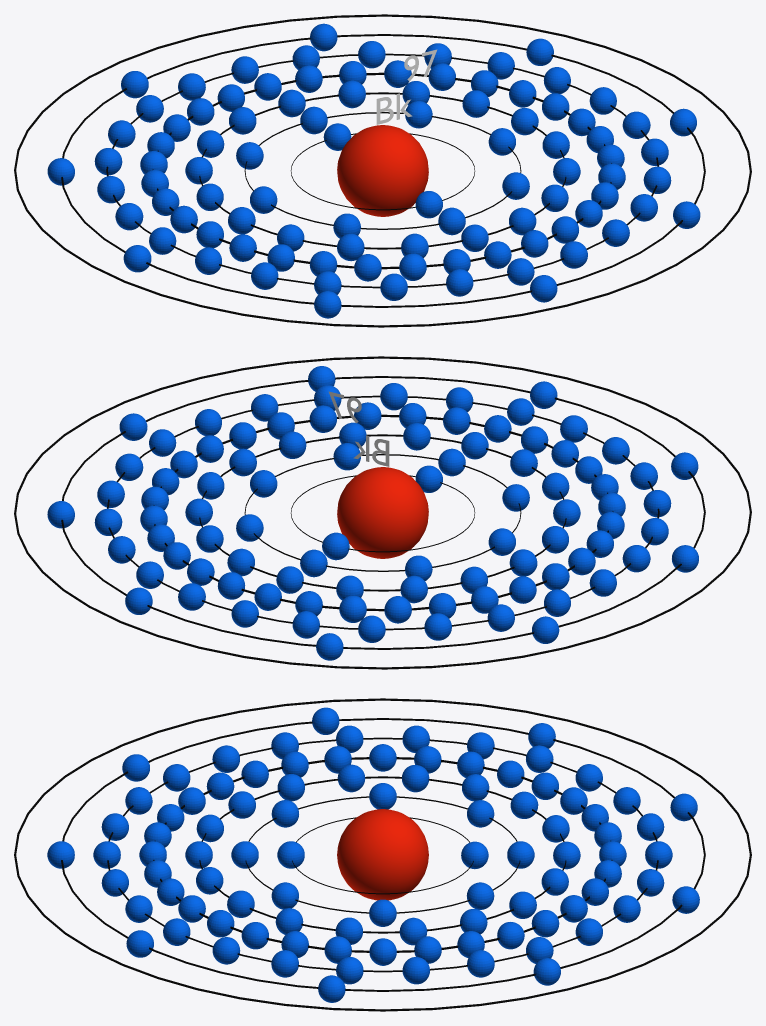
3 views of the same model, one above another, from view 1: azimuth 30°, elevation 25°; view 2: azimuth 150°, elevation 25°; view 3: azimuth 270°, elevation 25° (orthographic).
Parts seen in each view (by area): view 1: Bk4, Bk5, Bk3, Proton, Bk6, Bk2, n7, n6, n5, Bk1, n3, n4 (+1 smaller); view 2: Bk4, Bk5, Bk3, Proton, Bk6, Bk2, n7, n6, n5, Bk1, n3, n4 (+1 smaller); view 3: Bk4, Bk5, Bk3, Proton, Bk6, Bk2, n7, n6, n5, Bk1, n3, n4 (+2 smaller).
Boxes of the visible parts, <box> form: Bk4: <box>140,60,625,281</box>; Bk5: <box>94,41,671,300</box>; Bk3: <box>185,80,580,261</box>; Proton: <box>337,125,428,216</box>; Bk6: <box>47,23,700,318</box>; Bk2: <box>236,101,529,238</box>; n7: <box>14,14,751,327</box>; n6: <box>61,34,705,307</box>; n5: <box>106,53,658,288</box>; Bk1: <box>323,123,442,218</box>; n3: <box>199,92,566,249</box>; n4: <box>152,72,611,269</box>; Bk4: <box>140,402,625,623</box>; Bk5: <box>94,383,671,642</box>; Bk3: <box>185,422,580,603</box>; Proton: <box>337,467,428,558</box>; Bk6: <box>47,366,698,660</box>; Bk2: <box>236,443,529,580</box>; n7: <box>14,356,751,669</box>; n6: <box>61,376,705,649</box>; n5: <box>107,395,659,630</box>; Bk1: <box>322,465,442,560</box>; n3: <box>199,434,566,591</box>; n4: <box>153,414,613,611</box>; Bk4: <box>139,744,626,965</box>; Bk5: <box>93,725,672,984</box>; Bk3: <box>185,764,580,945</box>; Proton: <box>337,809,428,900</box>; Bk6: <box>47,707,699,1002</box>; Bk2: <box>231,783,534,926</box>; n7: <box>14,698,751,1011</box>; n6: <box>61,718,705,991</box>; n5: <box>107,737,658,972</box>; Bk1: <box>277,841,488,869</box>; n3: <box>199,776,566,933</box>; n4: <box>153,757,612,952</box>.
Size of the model in its own units: 802 by 180 by 802.
